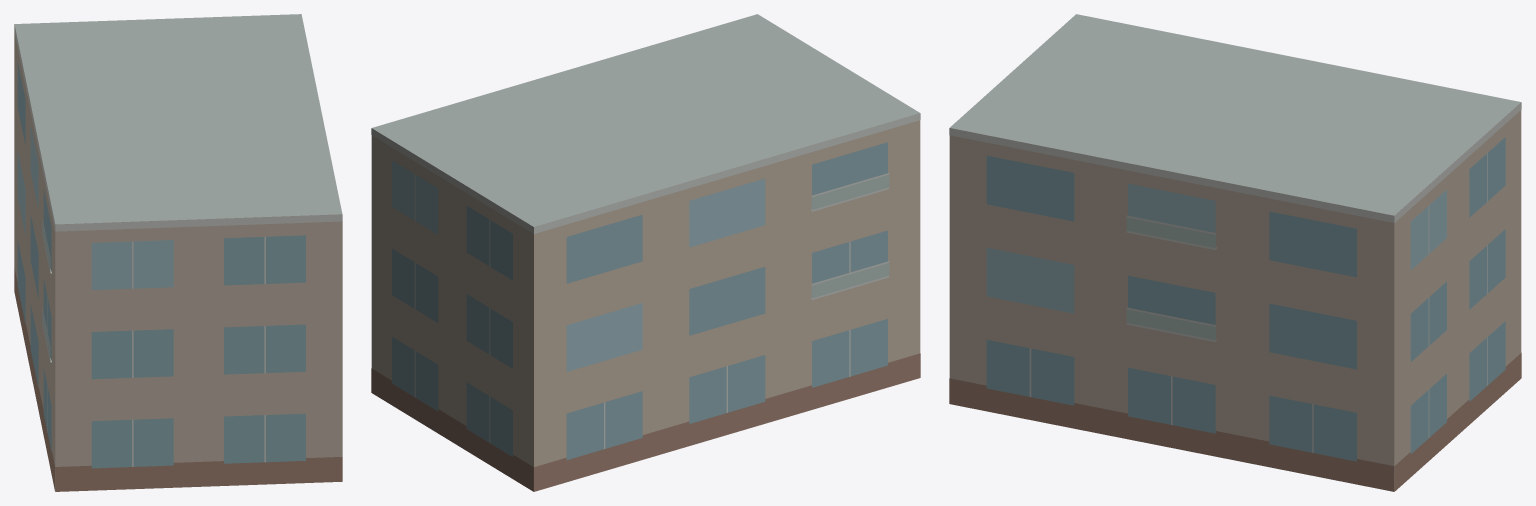
Rendered from survey-upis-32705015.glb.
The picture shows the model from 3 angles, left to right: view 1: azimuth 30°, elevation 25°; view 2: azimuth 150°, elevation 25°; view 3: azimuth 270°, elevation 25°; orthographic projection. The views are drawn at different scales.
Visible parts, largest first — view 1: survey-upis-32705015.tmp; view 2: survey-upis-32705015.tmp; view 3: survey-upis-32705015.tmp.
Boxes of the visible parts, x1,y1,x2,y2 form: survey-upis-32705015.tmp: (14,14,342,491); survey-upis-32705015.tmp: (371,14,920,491); survey-upis-32705015.tmp: (949,14,1521,491).
Size of the model in its own units: 14.35 by 9.15 by 17.19.
